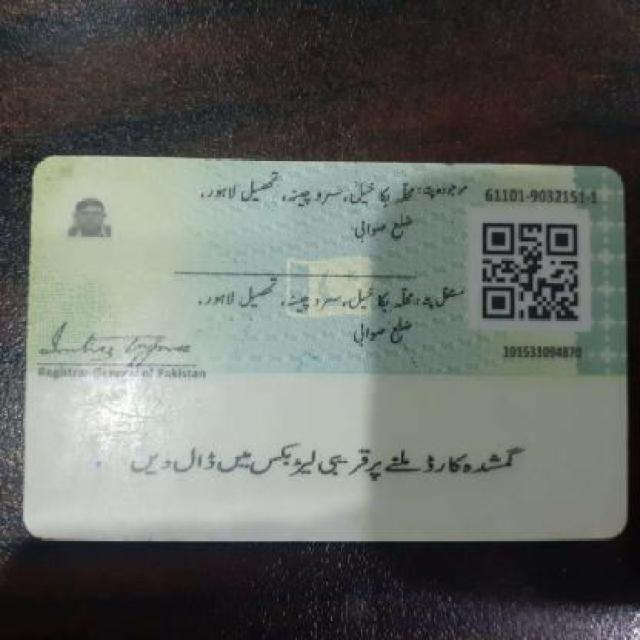Back: (20, 153, 626, 544)
